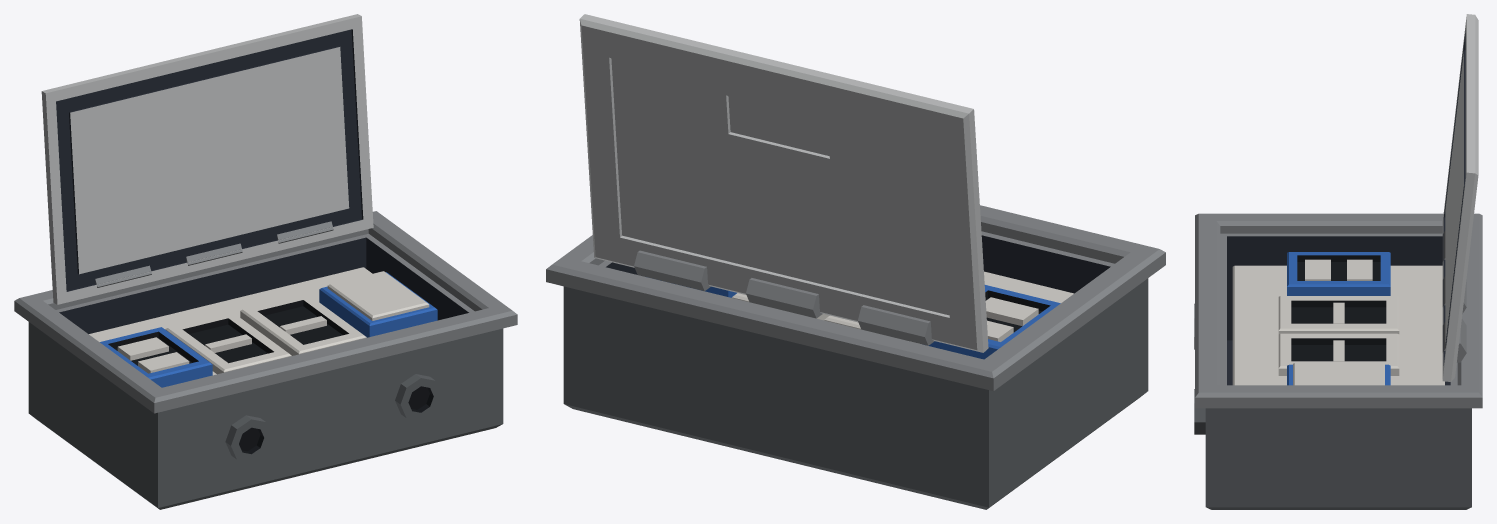
File: recessed-floor-box-018add.glb
The picture shows the model from 3 angles, left to right: view 1: azimuth 30°, elevation 25°; view 2: azimuth 150°, elevation 25°; view 3: azimuth 270°, elevation 25°; orthographic projection. The views are drawn at different scales.
Visible parts, largest first — view 1: recessed-floor-box, lid-leaf, blank-plate; view 2: recessed-floor-box, lid-leaf; view 3: recessed-floor-box, lid-leaf, blank-plate.
Boxes of the visible parts, <box> form: recessed-floor-box: <box>14,211,517,509</box>; lid-leaf: <box>41,14,373,304</box>; blank-plate: <box>327,271,429,320</box>; recessed-floor-box: <box>546,205,1165,509</box>; lid-leaf: <box>579,14,988,352</box>; recessed-floor-box: <box>1194,213,1482,509</box>; lid-leaf: <box>1442,14,1478,381</box>; blank-plate: <box>1293,363,1384,385</box>.
Bounding box in the file's own units: 0.3 × 0.2551 × 0.2006.
